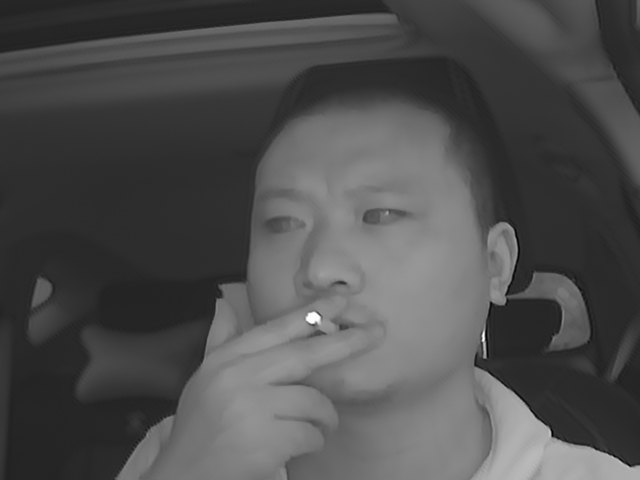hand: (193, 286, 377, 469)
